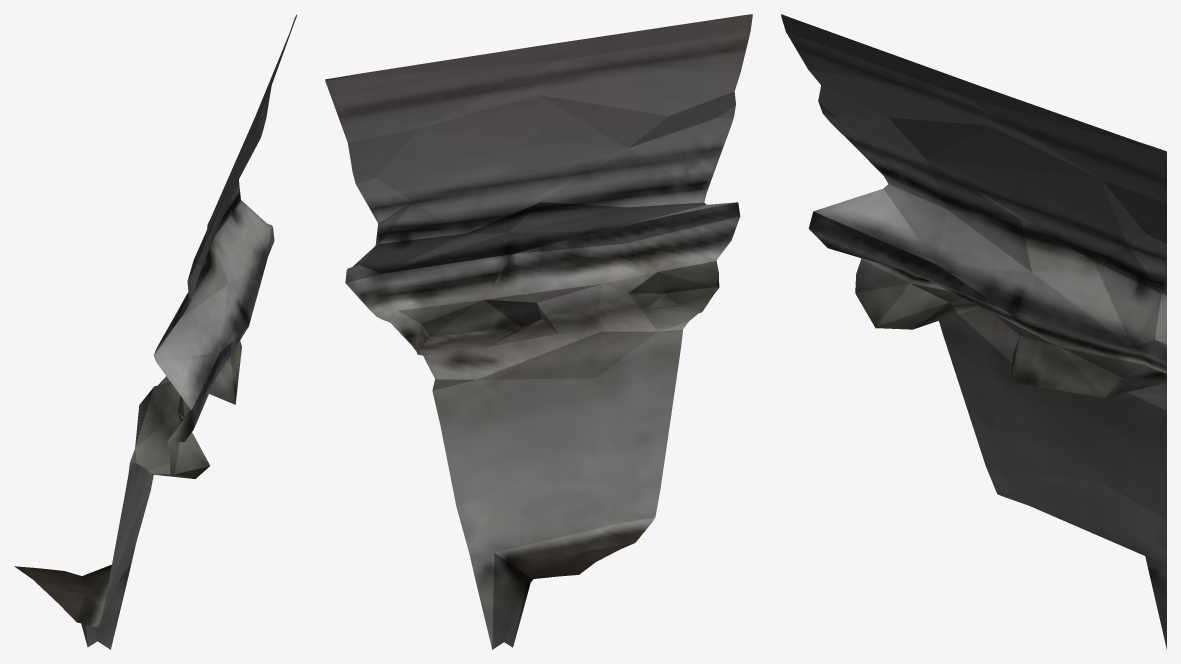
The picture shows the model from 3 angles, left to right: view 1: azimuth 30°, elevation 25°; view 2: azimuth 150°, elevation 25°; view 3: azimuth 270°, elevation 25°; orthographic projection. The views are drawn at different scales.
Size of the model in its own units: 0.3105 by 0.6195 by 0.3678.
1 material, 1 textured.
